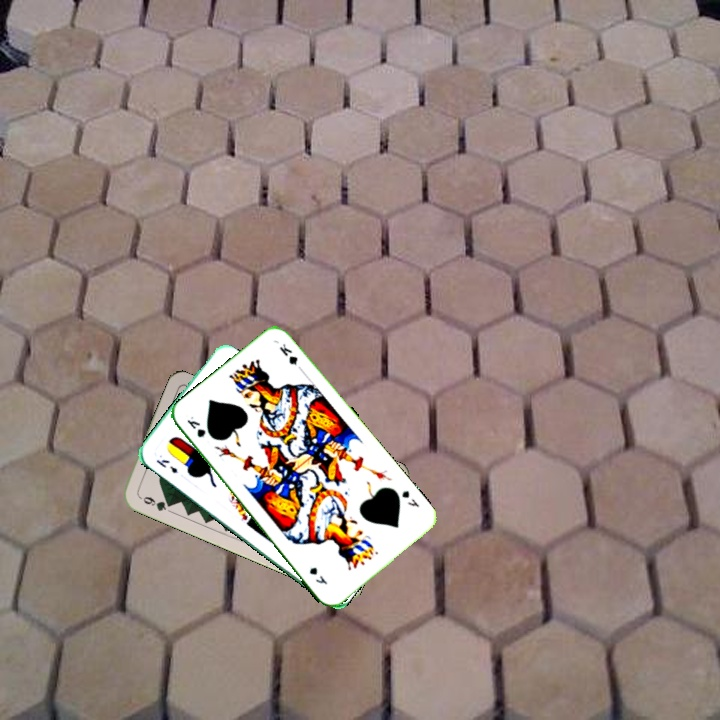EK: (152, 455, 180, 476)
G9: (139, 492, 175, 514)
GK: (183, 412, 208, 440), (398, 486, 422, 510)
